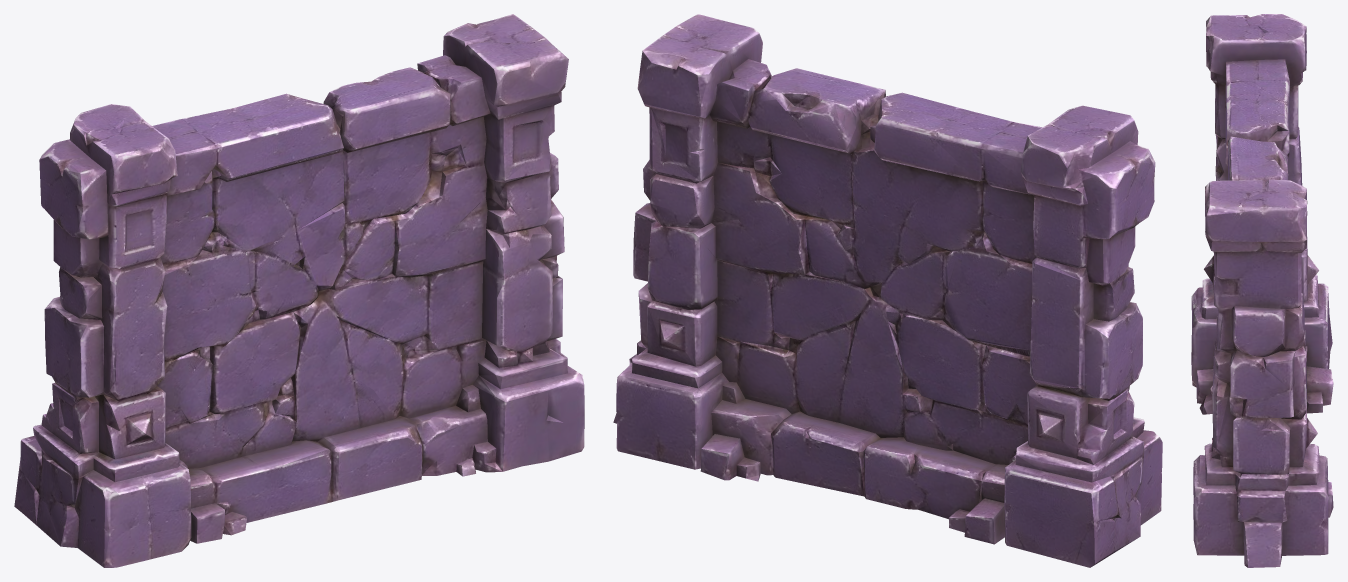
The model's file is cracked_wall.glb.
3 views of the same model, side by side, from view 1: azimuth 30°, elevation 25°; view 2: azimuth 150°, elevation 25°; view 3: azimuth 270°, elevation 25° (orthographic). The views are drawn at different scales.
Parts seen in each view (by area): view 1: body; view 2: body; view 3: body.
Boxes of the visible parts, bbox=[...] form: body: bbox=[14, 14, 584, 567]; body: bbox=[613, 14, 1162, 567]; body: bbox=[1191, 14, 1333, 567].
Bounding box in the file's own units: 4.05 × 3 × 1.11.
1 material, 1 textured.
